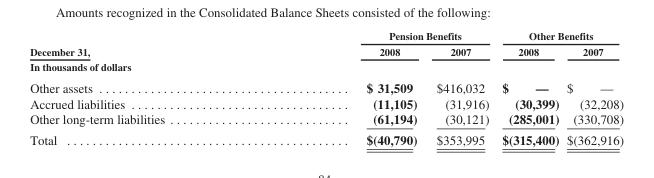table: (29, 29, 623, 146)
table column: (29, 29, 265, 146), (265, 29, 426, 146), (426, 29, 494, 146), (494, 29, 562, 146), (562, 29, 623, 146)
table column header: (29, 29, 623, 58)
table projected row header: (29, 58, 623, 76)
table row: (29, 76, 623, 95), (29, 58, 623, 76), (29, 110, 623, 128), (29, 128, 623, 146), (29, 43, 623, 58), (29, 95, 623, 110), (29, 29, 623, 43)
table spanning cell: (29, 29, 265, 58), (265, 29, 494, 43), (494, 29, 623, 43)
